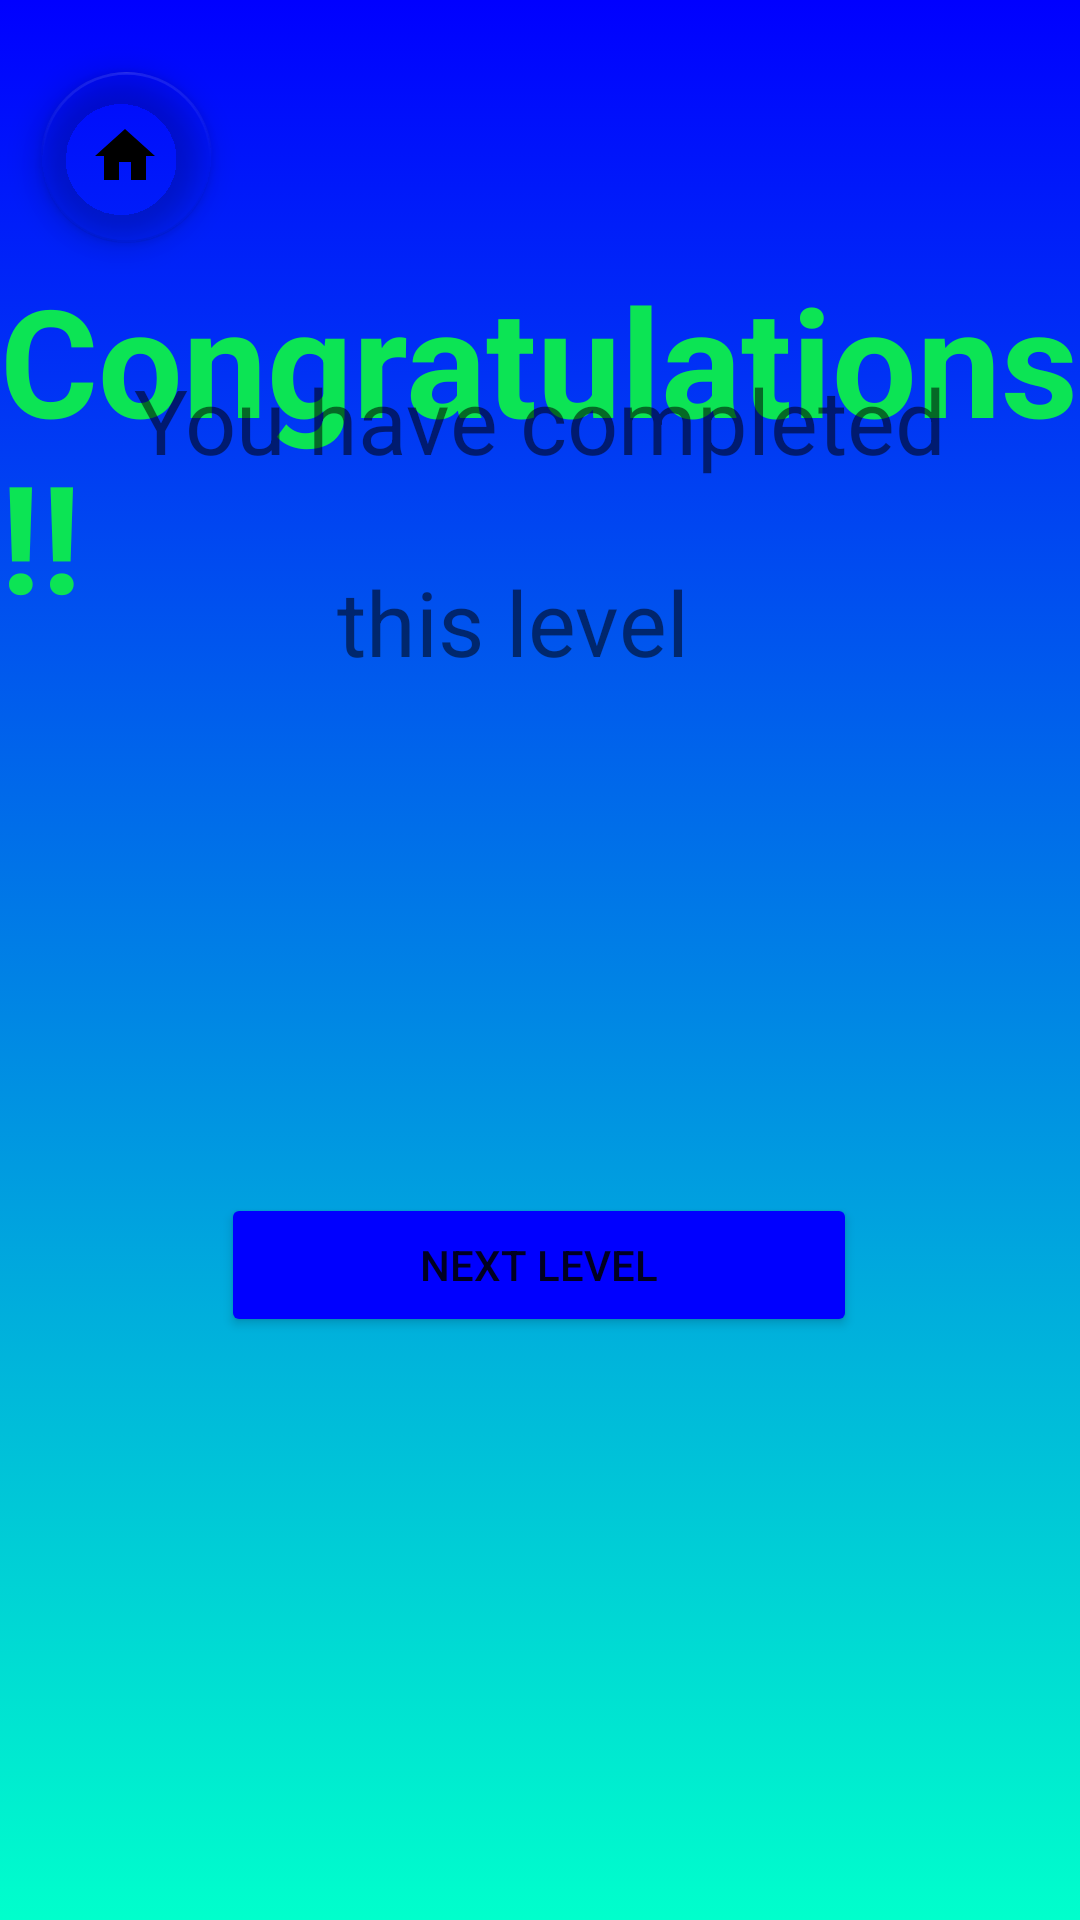

Icon bounding boxes for this 1080 x 1920 phone screenshot, format (x1, y1, x2, y2):
home: (41, 72, 212, 243)
